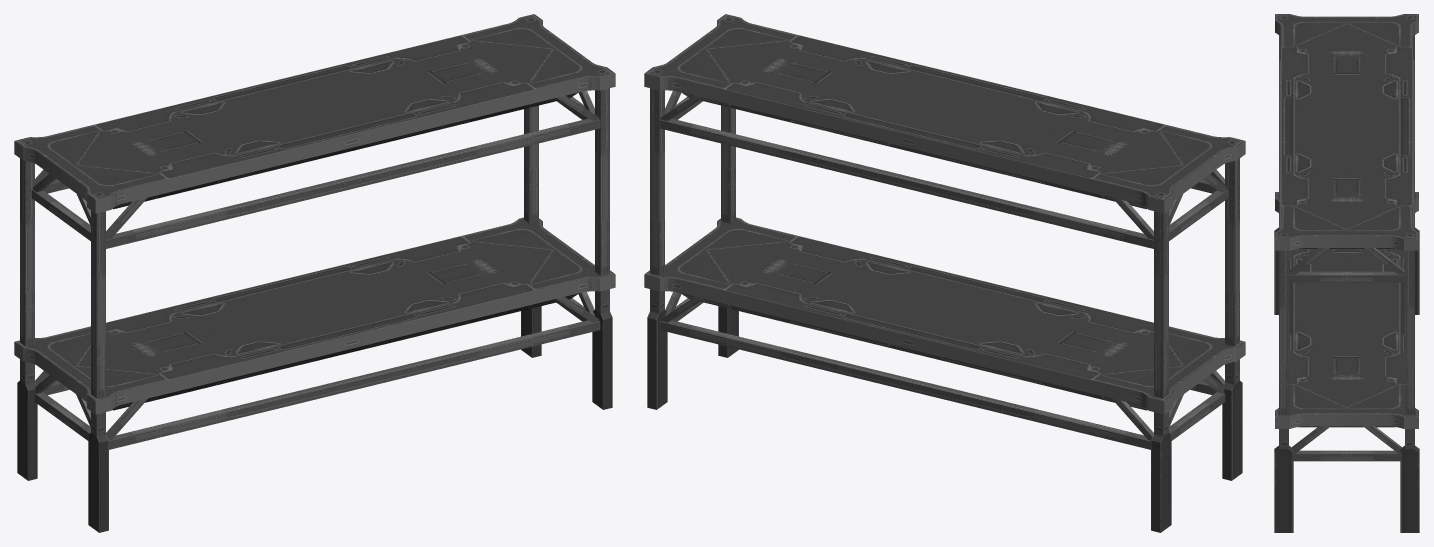
File: Shelves WideShort.glb
3 views of the same model, side by side, from view 1: azimuth 30°, elevation 25°; view 2: azimuth 150°, elevation 25°; view 3: azimuth 270°, elevation 25° (orthographic). The views are drawn at different scales.
Visible parts, largest first — view 1: Prop_Shelves_WideShort; view 2: Prop_Shelves_WideShort; view 3: Prop_Shelves_WideShort.
Part boxes in pixels (x1,y1,x2,y2): Prop_Shelves_WideShort: (14, 14, 615, 532); Prop_Shelves_WideShort: (644, 14, 1245, 532); Prop_Shelves_WideShort: (1274, 14, 1419, 532).
Size of the model in its own units: 1.98 by 1.21 by 0.5407.
1 material, 1 textured.
